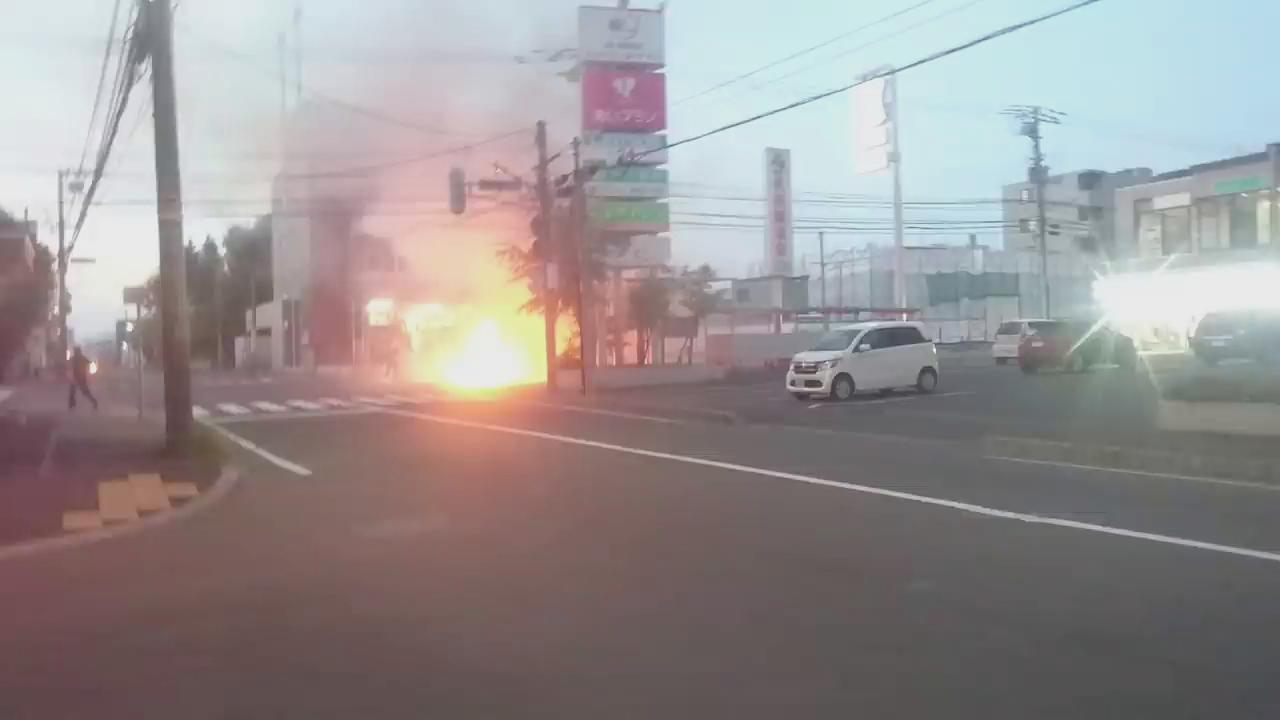Fire: (410, 311, 569, 393)
